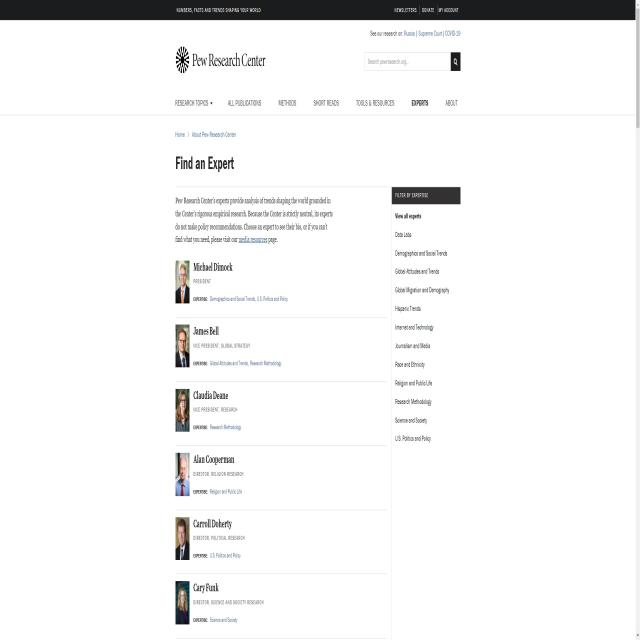menu-bar: (392, 2, 461, 19)
search: (364, 48, 462, 71)
tab-bar: (170, 88, 462, 114)
